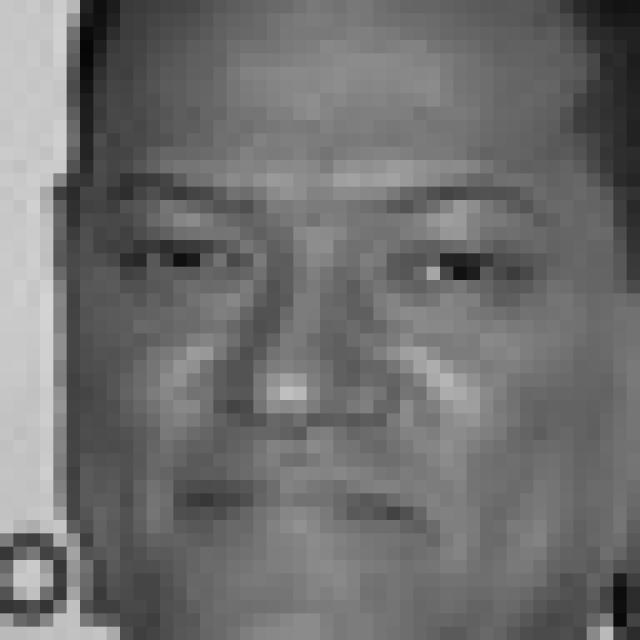neutral: (106, 155, 568, 575)
